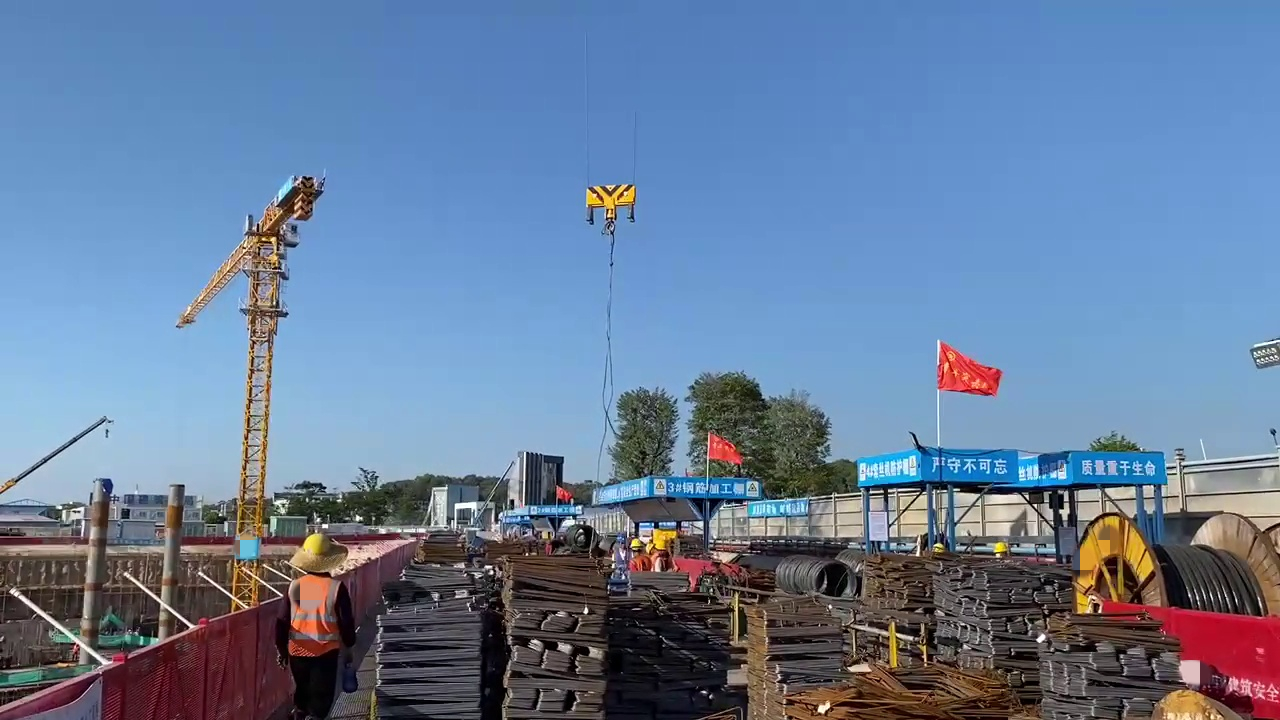fence: (3, 588, 273, 720)
helmet: (301, 534, 333, 555), (630, 536, 646, 548)
hook: (583, 182, 635, 216)
person: (274, 532, 349, 720), (653, 533, 675, 574), (621, 535, 648, 568)
rebar: (877, 562, 1159, 720), (480, 548, 623, 720), (378, 570, 497, 720), (825, 644, 993, 720), (738, 587, 814, 720)
slogan: (920, 450, 1018, 484), (1074, 452, 1168, 483)
vest: (283, 573, 341, 660)
